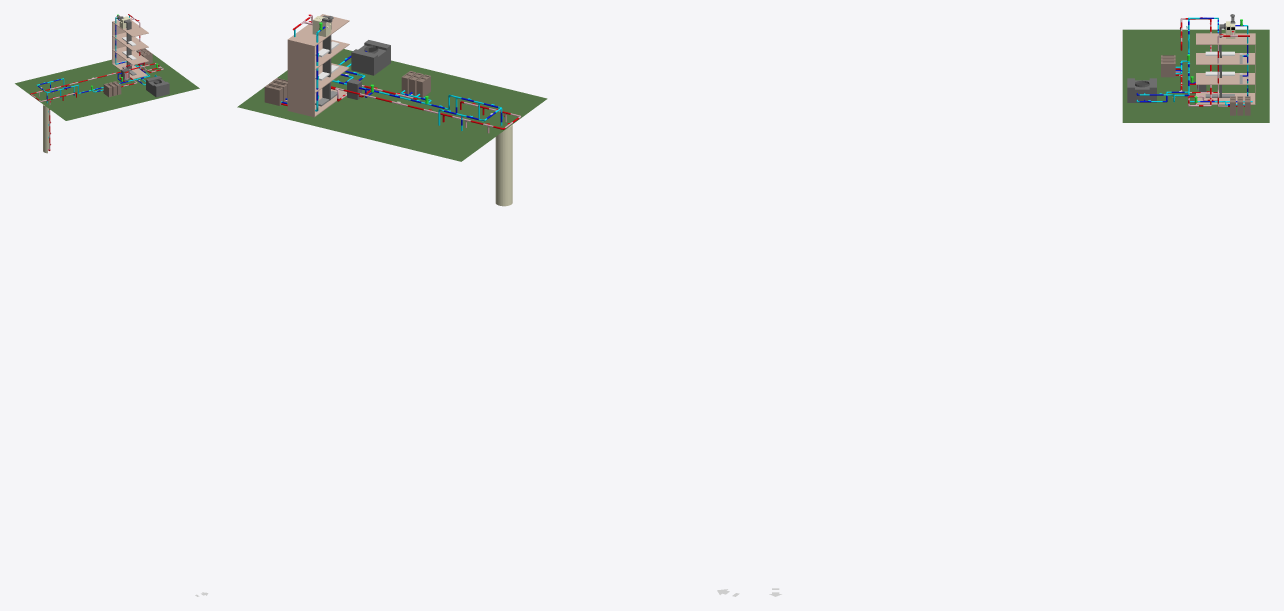
The model's file is hotmainV2.2.glb.
3 renders of one model, left to right at view 1: azimuth 30°, elevation 25°; view 2: azimuth 150°, elevation 25°; view 3: azimuth 270°, elevation 25°, orthographic. The views are drawn at different scales.
Parts seen in each view (by area): view 1: grass, building, pipes.061, pipes.035, Air Cooler, LeftCeilingCooler, well; view 2: grass, building, well, pipes.035, Air Cooler, pipes.061, LeftCeilingCooler; view 3: grass, building, pipes.035, pipes.061, Air Cooler.
Boxes of the visible parts, left/top/right/bottom form: grass: left=15, top=54, right=199, bottom=120; building: left=112, top=20, right=148, bottom=79; pipes.061: left=30, top=14, right=163, bottom=150; pipes.035: left=36, top=16, right=156, bottom=103; Air Cooler: left=146, top=76, right=169, bottom=97; LeftCeilingCooler: left=121, top=17, right=136, bottom=75; well: left=43, top=104, right=49, bottom=153; grass: left=237, top=49, right=547, bottom=161; building: left=287, top=14, right=349, bottom=117; well: left=495, top=124, right=512, bottom=206; pipes.035: left=281, top=26, right=502, bottom=130; Air Cooler: left=351, top=40, right=390, bottom=75; pipes.061: left=281, top=15, right=521, bottom=133; LeftCeilingCooler: left=315, top=15, right=339, bottom=106; grass: left=1122, top=29, right=1269, bottom=122; building: left=1196, top=33, right=1255, bottom=104; pipes.035: left=1136, top=17, right=1252, bottom=105; pipes.061: left=1175, top=18, right=1249, bottom=106; Air Cooler: left=1127, top=78, right=1156, bottom=102.
Bounding box in the file's own units: 31.18 × 94.84 × 68.21.
